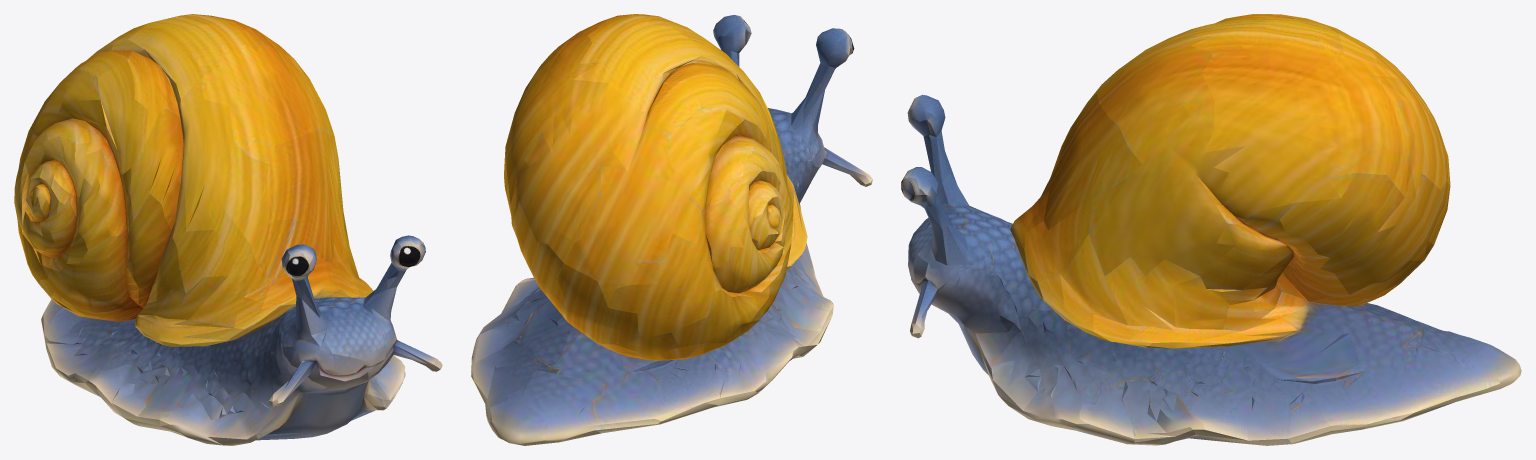
Rendered from snail.glb.
3 renders of one model, left to right at view 1: azimuth 30°, elevation 25°; view 2: azimuth 150°, elevation 25°; view 3: azimuth 270°, elevation 25°, orthographic. The views are drawn at different scales.
Bounding box in the file's own units: 0.2888 × 0.3 × 0.4754.
Materials: 1 (1 with a texture image).
